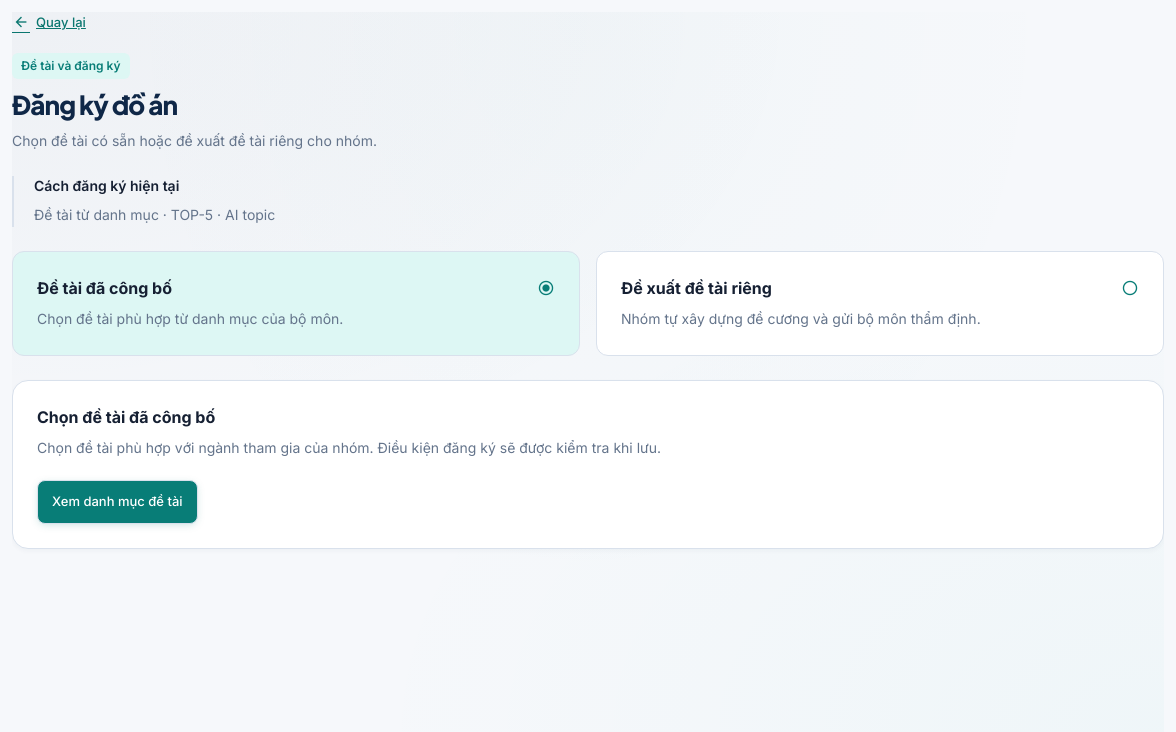
Test: RegistrationSourcePage › renders the Backend-selected topic without inventing a clear operation
Expected: the text "Đề tài từ danh mục · TOP-5 · AI topic" is shown, [34,206,275,223]
Click the button "Đề xuất đề tài riêng" at x=696, y=288, box [596,251,1164,356]
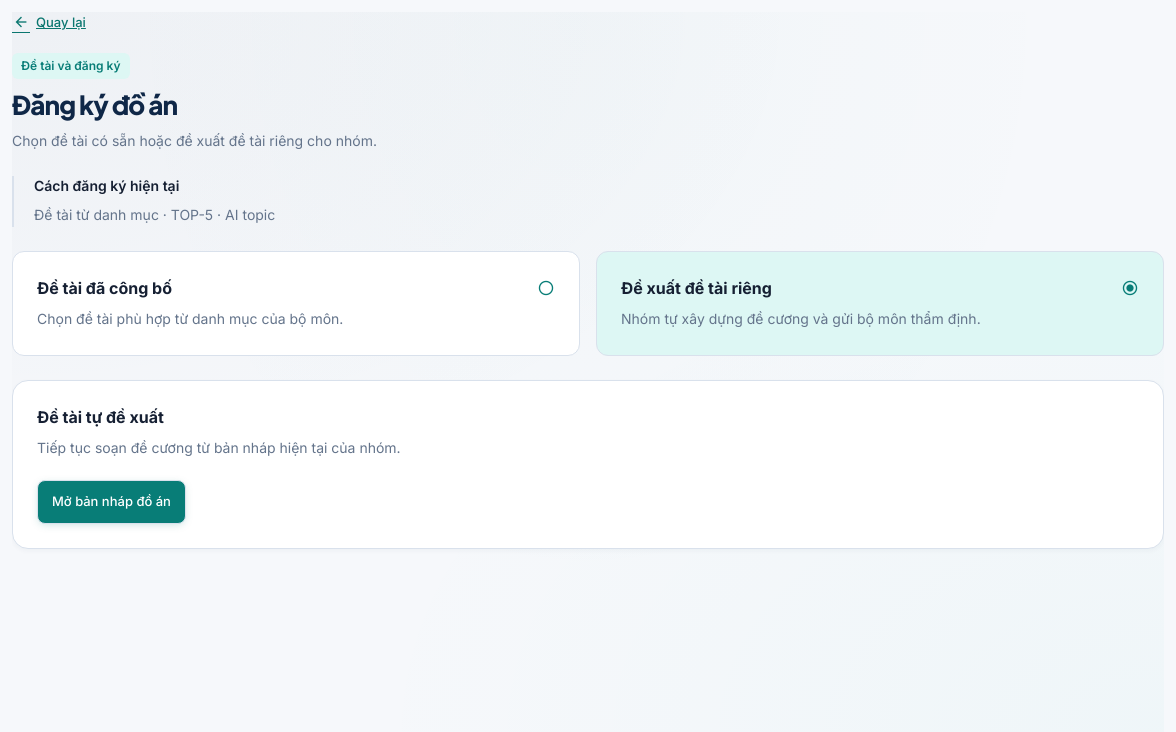
Now the text "Tiếp tục soạn đề cương từ bản nháp hiện tại của nhóm." is shown, box [37,439,401,456]
